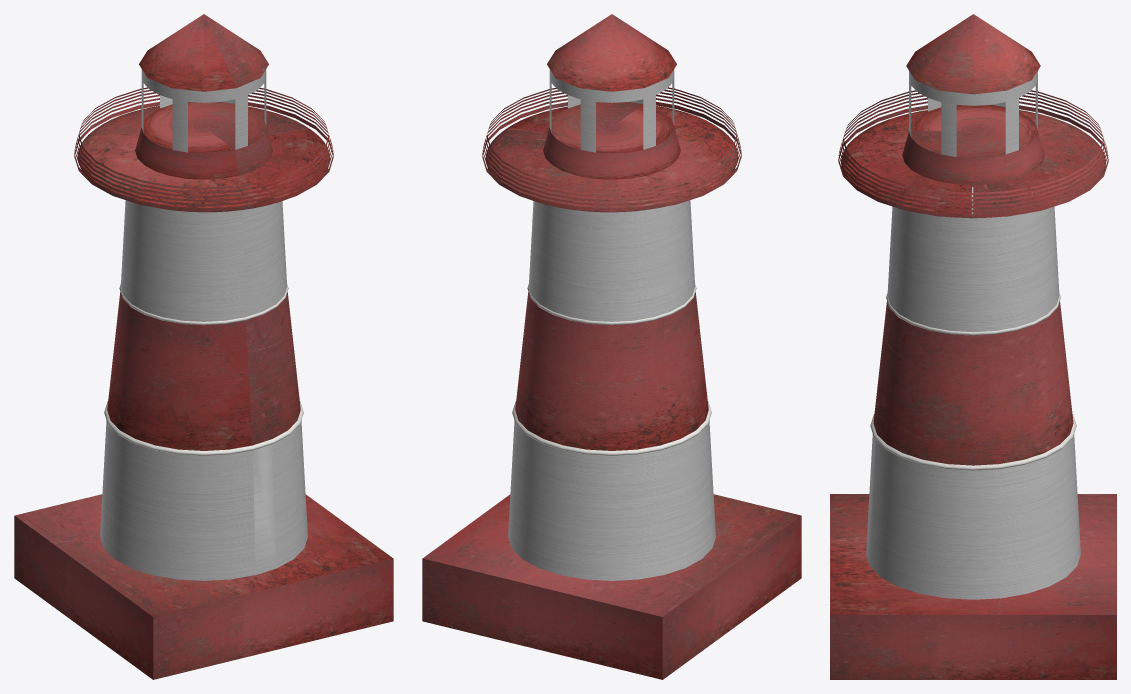
File: lighthouse.obj
3 renders of one model, left to right at view 1: azimuth 30°, elevation 25°; view 2: azimuth 150°, elevation 25°; view 3: azimuth 270°, elevation 25°, orthographic. The views are drawn at different scales.
Parts seen in each view (by area): view 1: Box, Cylinder, Cylinder1, Cylinder2, Torus, Cylinder3, Torus1, Cone, Cylinder4, Cylinder5, Torus2, Torus3; view 2: Box, Cylinder, Cylinder1, Cylinder2, Torus, Cylinder3, Torus1, Cone, Cylinder4, Cylinder5, Torus2, Torus3; view 3: Box, Cylinder, Cylinder1, Cylinder2, Torus, Cylinder3, Torus1, Cone, Cylinder4, Cylinder5, Torus2, Torus3.
Boxes of the visible parts, <box> form: Box: <box>14,494,393,679</box>; Cylinder: <box>100,420,307,580</box>; Cylinder1: <box>107,292,300,450</box>; Cylinder2: <box>120,200,287,321</box>; Torus: <box>77,106,330,212</box>; Cylinder3: <box>135,102,272,179</box>; Torus1: <box>74,87,333,212</box>; Cone: <box>139,14,268,91</box>; Cylinder4: <box>141,77,266,152</box>; Cylinder5: <box>141,69,266,102</box>; Torus2: <box>104,401,303,455</box>; Torus3: <box>119,284,288,325</box>; Box: <box>422,494,801,679</box>; Cylinder: <box>508,420,715,580</box>; Cylinder1: <box>515,292,708,450</box>; Cylinder2: <box>528,200,695,321</box>; Torus: <box>485,106,738,212</box>; Cylinder3: <box>543,102,680,179</box>; Torus1: <box>482,87,741,212</box>; Cone: <box>547,14,676,91</box>; Cylinder4: <box>549,77,674,152</box>; Cylinder5: <box>549,69,674,102</box>; Torus2: <box>512,401,711,455</box>; Torus3: <box>527,284,696,325</box>; Box: <box>830,494,1116,679</box>; Cylinder: <box>866,434,1080,599</box>; Cylinder1: <box>873,301,1073,465</box>; Cylinder2: <box>887,187,1059,332</box>; Torus: <box>841,110,1105,217</box>; Cylinder3: <box>902,104,1044,186</box>; Torus1: <box>838,90,1108,218</box>; Cone: <box>906,14,1040,94</box>; Cylinder4: <box>909,79,1037,156</box>; Cylinder5: <box>909,71,1037,105</box>; Torus2: <box>870,414,1076,470</box>; Torus3: <box>886,293,1060,335</box>.
Bounding box in the file's own units: 2 × 4.66 × 2.
4 materials, 4 textured.
